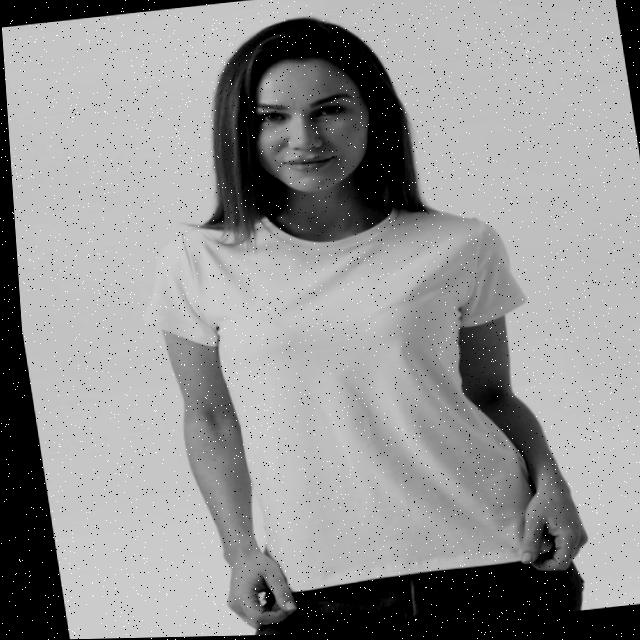Upper-Body: (137, 208, 525, 590)
